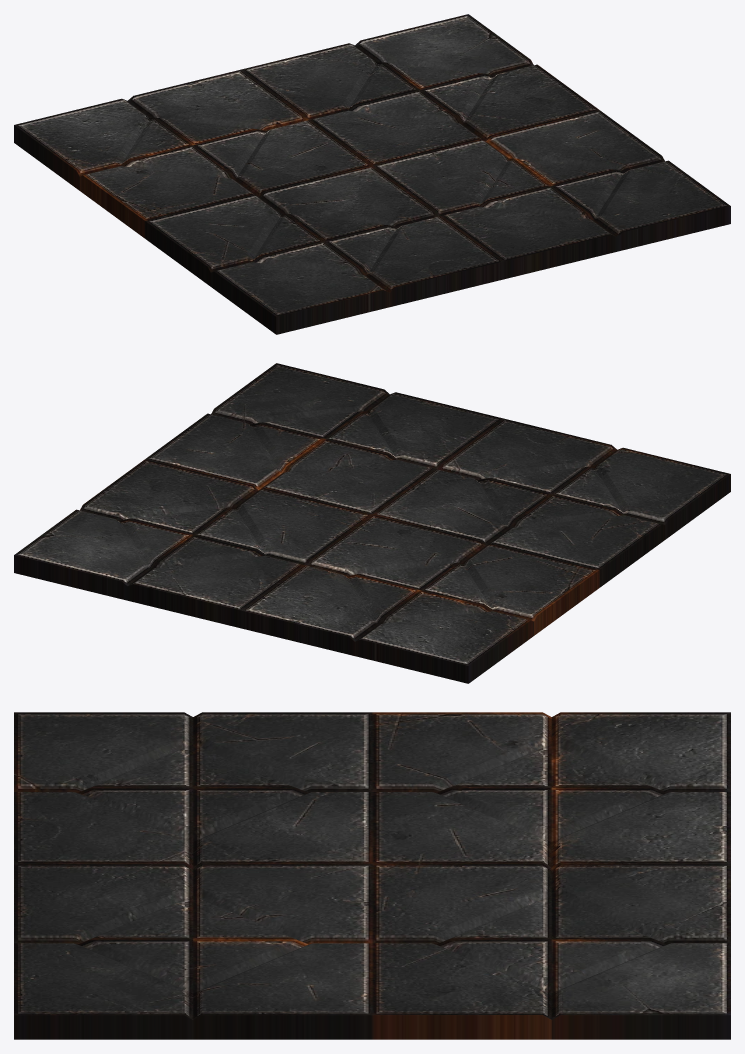
File: ignivar_floor_tile_large.glb
3 renders of one model, top to bottom at view 1: azimuth 30°, elevation 25°; view 2: azimuth 150°, elevation 25°; view 3: azimuth 270°, elevation 25°, orthographic. The views are drawn at different scales.
Parts seen in each view (by area): view 1: floor_tile_large; view 2: floor_tile_large; view 3: floor_tile_large.
Part boxes in pixels (box(x1,y1,x2,y2)): floor_tile_large: box(14, 14, 730, 334); floor_tile_large: box(14, 363, 730, 683); floor_tile_large: box(14, 712, 730, 1039).
Bounding box in the file's own units: 4 × 0.1499 × 4.
1 material, 1 textured.
